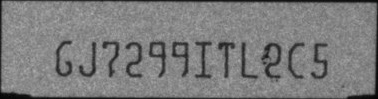2: (125, 40, 143, 78), (264, 41, 282, 79)
5: (310, 41, 328, 79)
7: (102, 40, 120, 77)
9: (147, 40, 165, 77), (172, 41, 190, 78)
C: (288, 41, 305, 79)
G: (55, 40, 73, 77)
I: (194, 40, 213, 79)
J: (79, 40, 97, 78)
L: (240, 40, 259, 78)
T: (218, 41, 235, 78)
